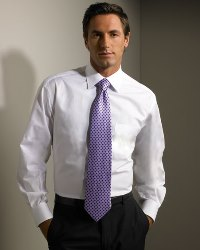tie: (84, 75, 118, 223)
